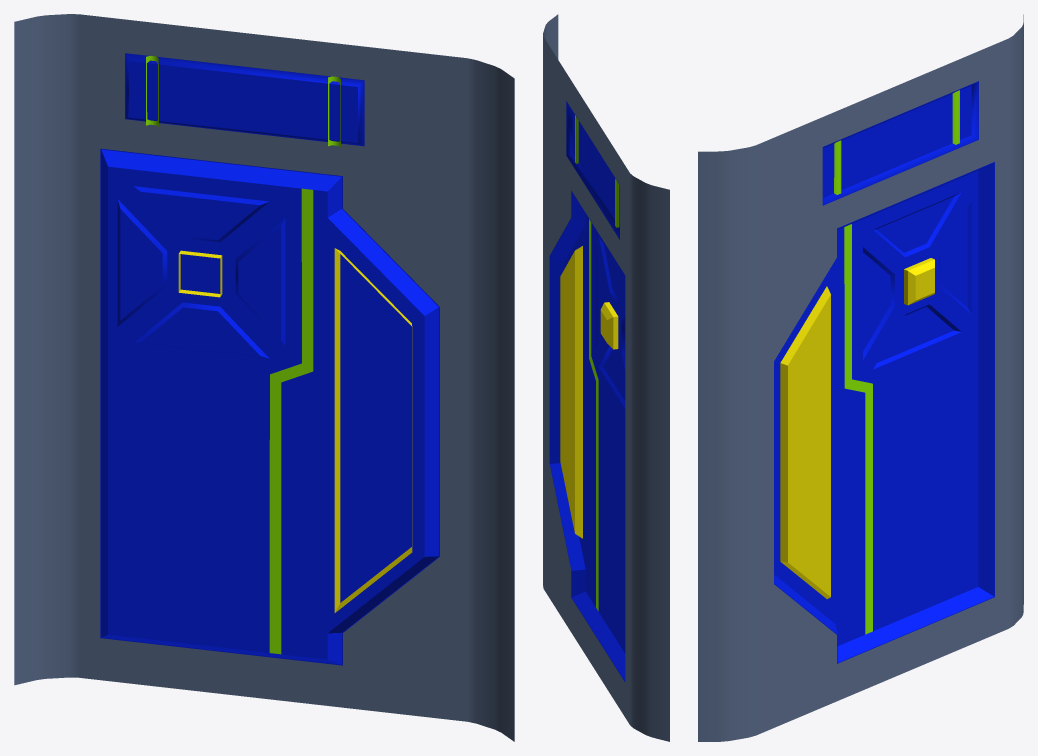
The model's file is Building_Wall_02g_snaps016.fbx.
The picture shows the model from 3 angles, left to right: view 1: azimuth 30°, elevation 25°; view 2: azimuth 150°, elevation 25°; view 3: azimuth 270°, elevation 25°; orthographic projection. The views are drawn at different scales.
Parts seen in each view (by area): view 1: Building_Wall_02g_snaps016_LOD0; view 2: Building_Wall_02g_snaps016_LOD0; view 3: Building_Wall_02g_snaps016_LOD0.
Part boxes in pixels (x1,y1,x2,y2): Building_Wall_02g_snaps016_LOD0: (14,14,514,741); Building_Wall_02g_snaps016_LOD0: (543,14,669,741); Building_Wall_02g_snaps016_LOD0: (698,14,1023,741).
Size of what is drawn, in the model's own units: 3 by 3 by 6.
